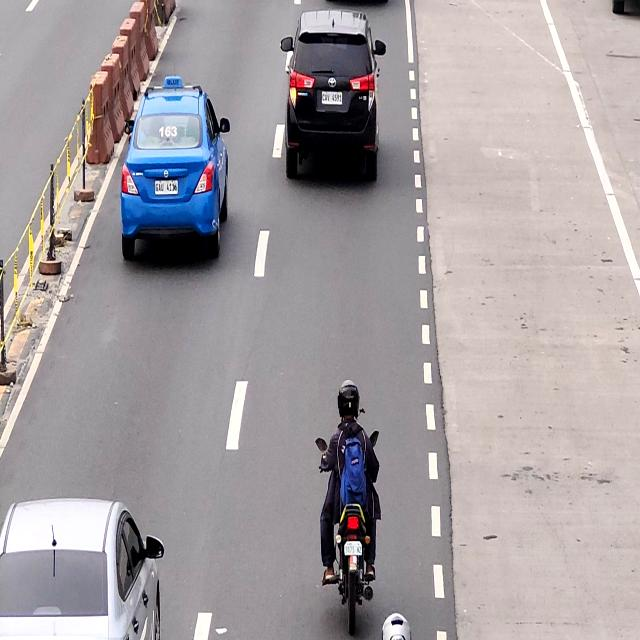Car: (0, 502, 160, 640), (124, 81, 230, 256), (286, 12, 374, 174)
License-Plate: (153, 178, 180, 196), (322, 88, 344, 108), (343, 540, 365, 556)
Motorcycle: (324, 387, 375, 631)
